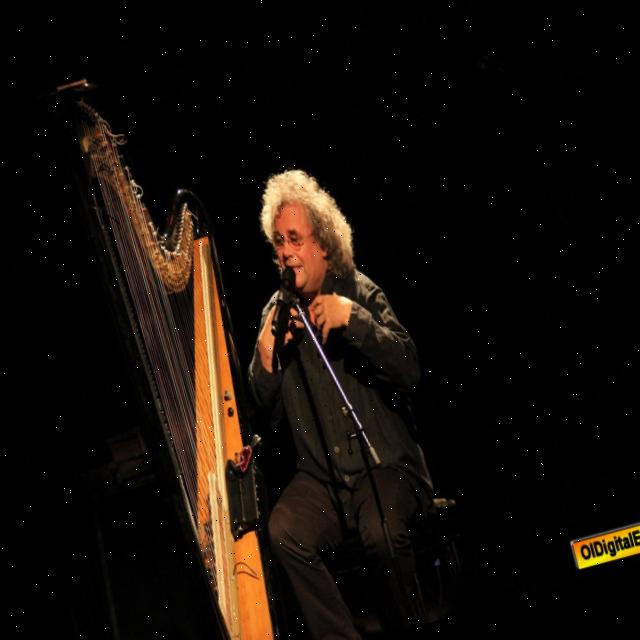harp: (45, 49, 328, 640)
